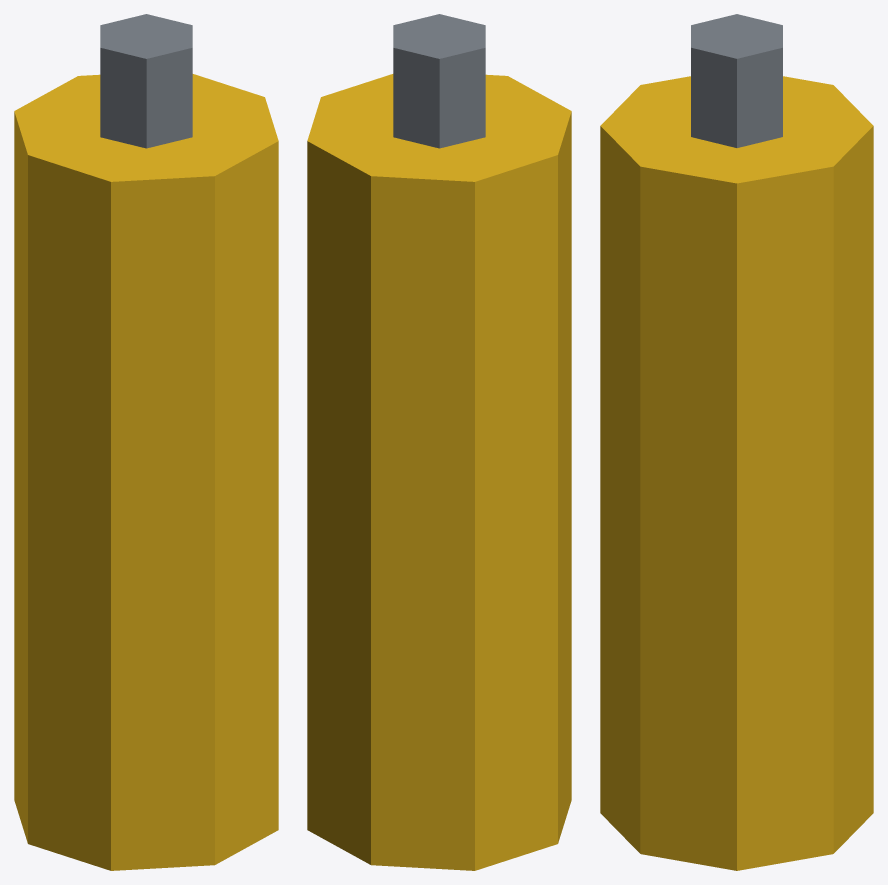
File: pickup_scuba.glb
3 renders of one model, left to right at view 1: azimuth 30°, elevation 25°; view 2: azimuth 150°, elevation 25°; view 3: azimuth 270°, elevation 25°, orthographic.
Visible parts, largest first — view 1: pickup_scuba_Body; view 2: pickup_scuba_Body; view 3: pickup_scuba_Body.
Boxes of the visible parts, box(x1,y1,x2,y2) form: pickup_scuba_Body: box(14, 14, 278, 870); pickup_scuba_Body: box(307, 14, 571, 870); pickup_scuba_Body: box(600, 14, 873, 870).
Bounding box in the file's own units: 0.18 × 0.565 × 0.18.
